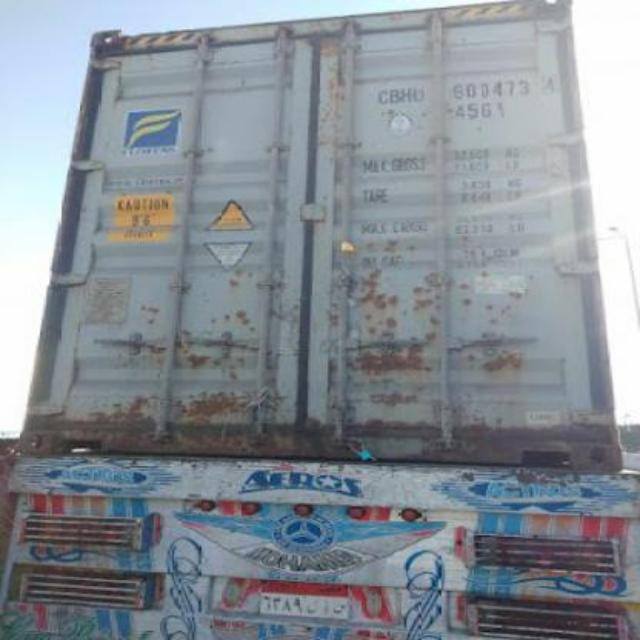0: (464, 81, 478, 101), (478, 81, 490, 99)
3: (518, 79, 530, 99)
4: (490, 80, 506, 100), (542, 76, 558, 94)
7: (506, 79, 518, 99)
9: (452, 82, 464, 102)
B: (388, 87, 402, 105)
C: (376, 92, 388, 105)
H: (401, 86, 414, 104)
U: (412, 86, 426, 104)
